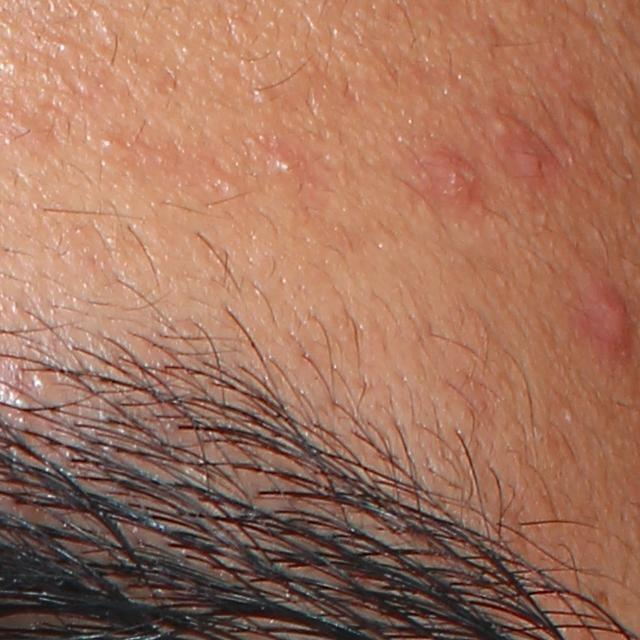comedo: (215, 170, 241, 199), (98, 130, 127, 151)
papule: (584, 276, 638, 351), (425, 145, 483, 209), (507, 124, 549, 179), (568, 102, 602, 134)
